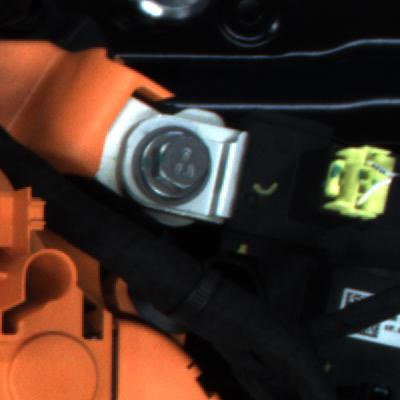nut_b: (130, 126, 232, 218)
